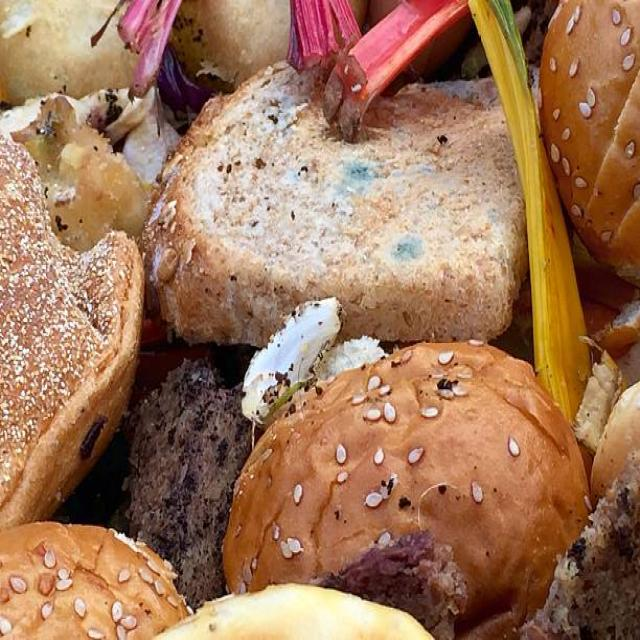paper: (180, 66, 530, 316), (248, 362, 582, 602), (0, 120, 137, 497), (4, 523, 188, 640)
